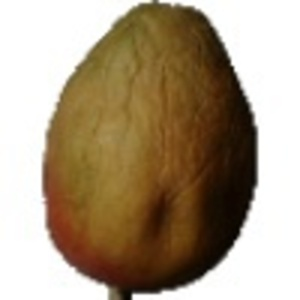mamão: (34, 2, 270, 294)
